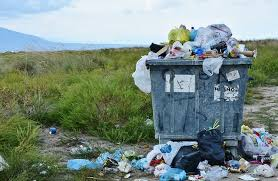garbage: (111, 134, 277, 181), (163, 24, 259, 59)
